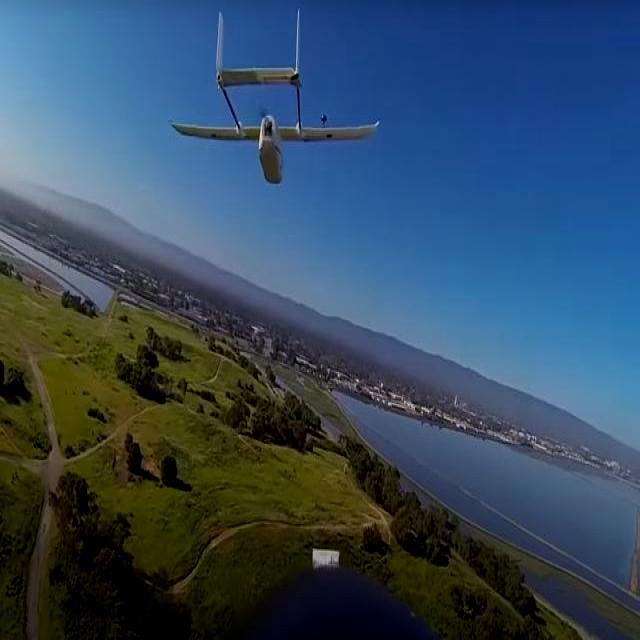iha: (168, 0, 391, 125)
